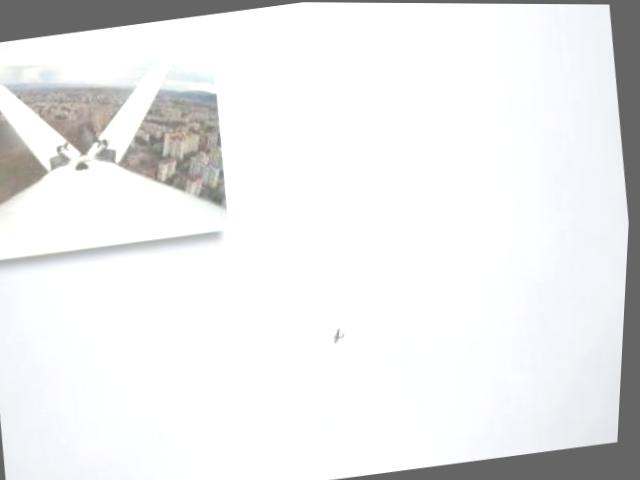uav: (329, 317, 358, 348)
